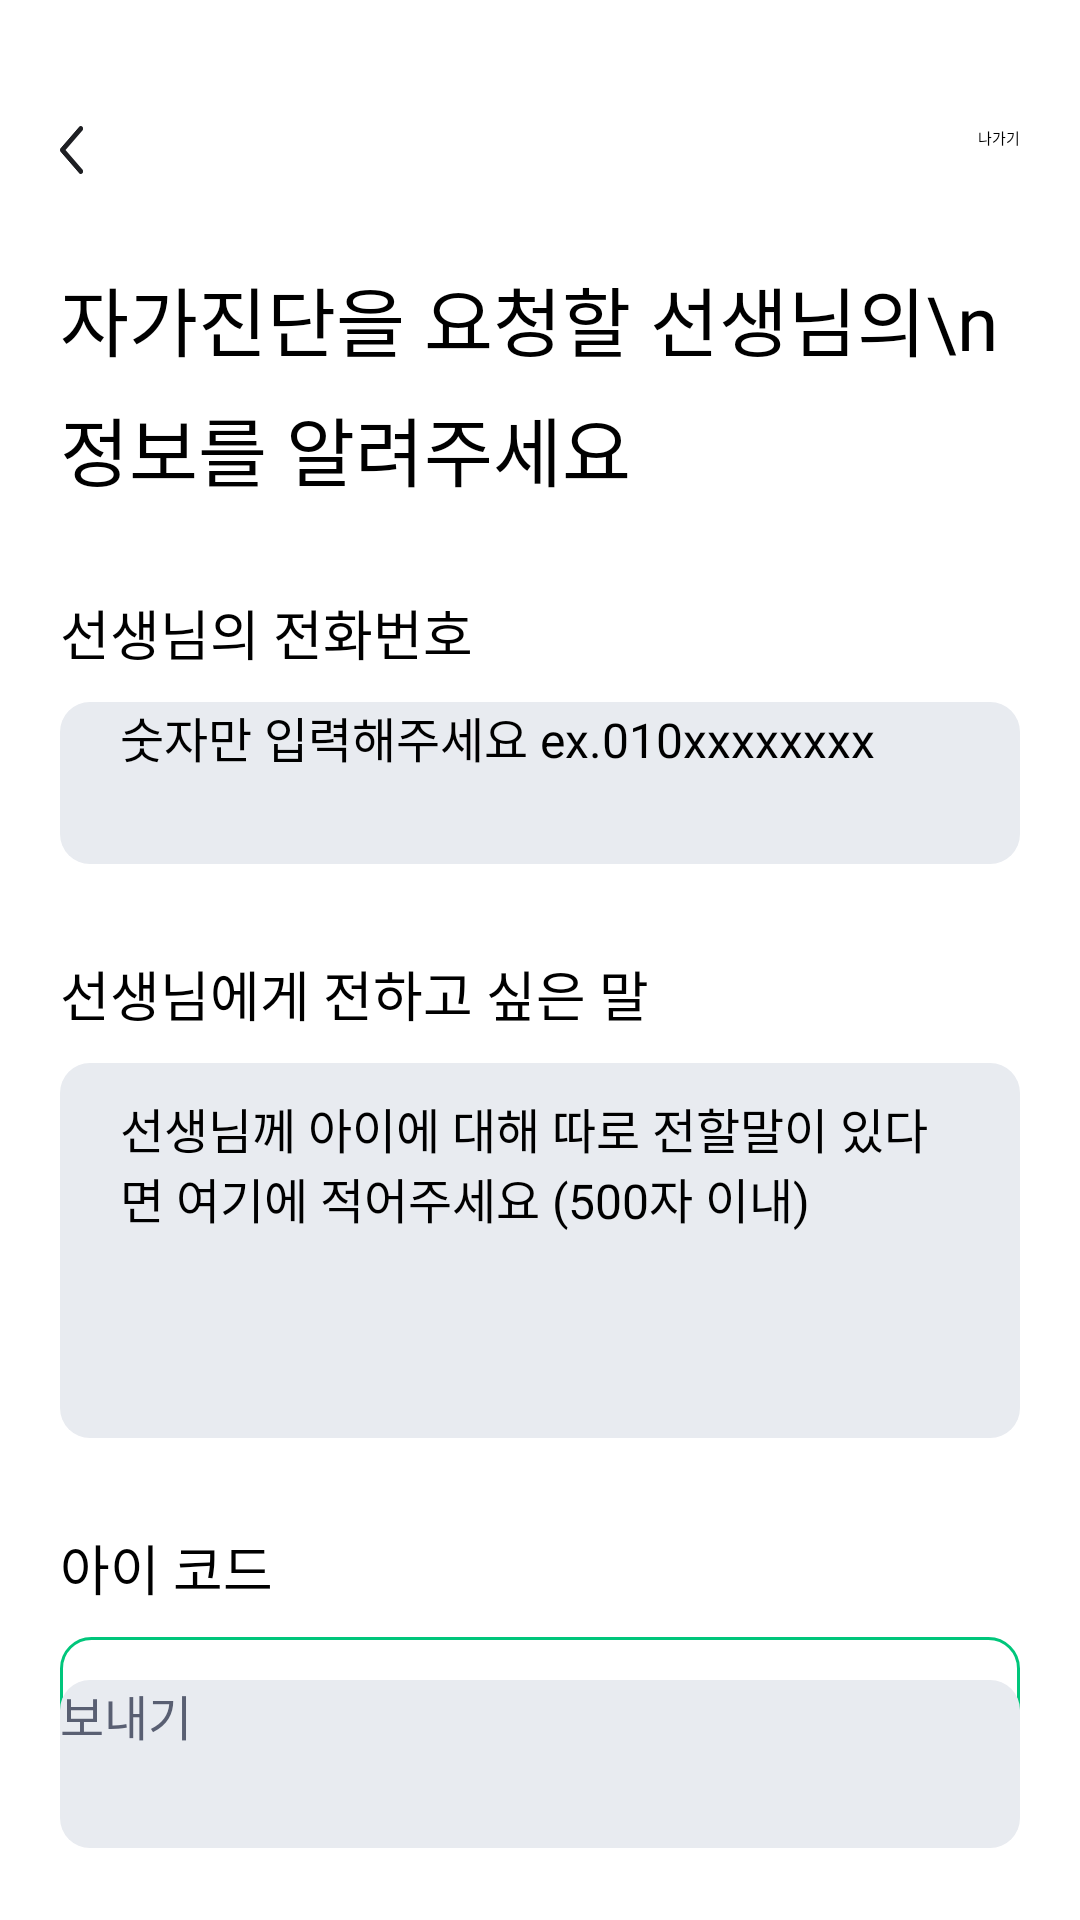

Where icons sit on this 1080 x 1920 app screen, as (x1, y1, x2, y2):
back: (60, 126, 83, 174)
